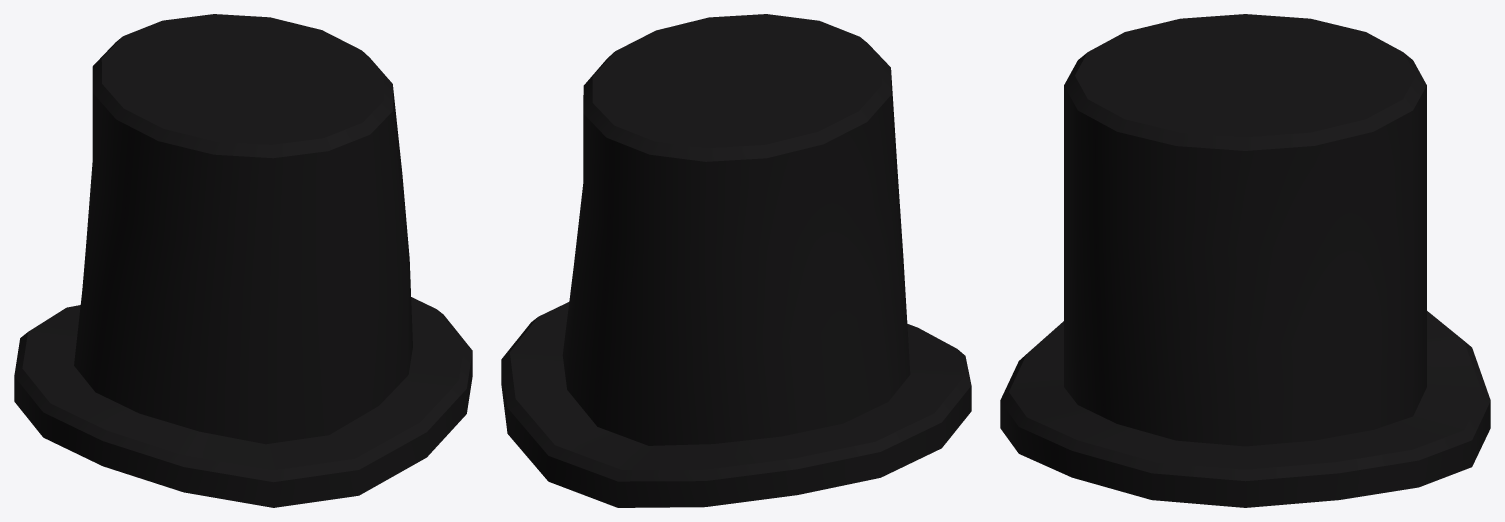
File: hat.fbx
3 views of the same model, side by side, from view 1: azimuth 30°, elevation 25°; view 2: azimuth 150°, elevation 25°; view 3: azimuth 270°, elevation 25° (orthographic). The views are drawn at different scales.
Parts seen in each view (by area): view 1: Hat; view 2: Hat; view 3: Hat.
Part boxes in pixels (x1,y1,x2,y2): Hat: (14, 14, 472, 507); Hat: (501, 14, 971, 507); Hat: (1000, 14, 1490, 507).
Size of the model in its own units: 200 by 158 by 200.
1 material, 1 textured.
